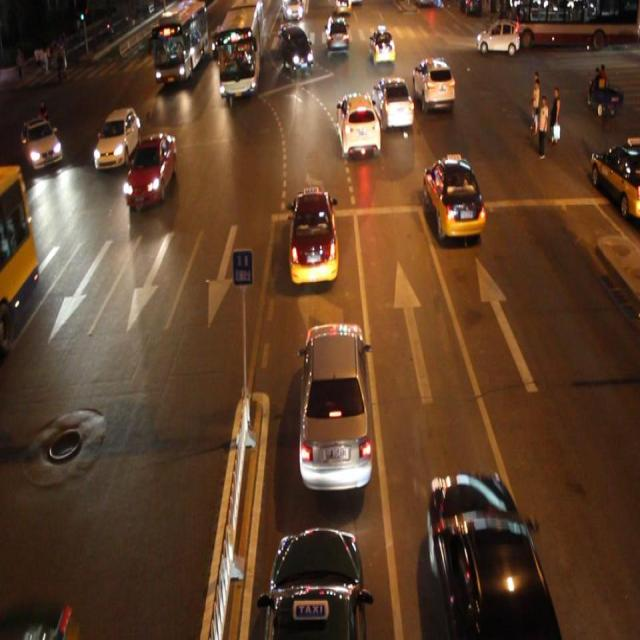car: (428, 469, 558, 640), (297, 319, 373, 495), (260, 526, 367, 640), (287, 188, 339, 284), (423, 157, 483, 236), (124, 132, 176, 208), (336, 92, 380, 155), (94, 110, 140, 170), (412, 57, 454, 111), (372, 76, 414, 128), (22, 118, 63, 171), (280, 28, 314, 75), (370, 26, 395, 66)
van: (1, 162, 38, 342), (152, 1, 207, 81), (218, 1, 261, 93)
